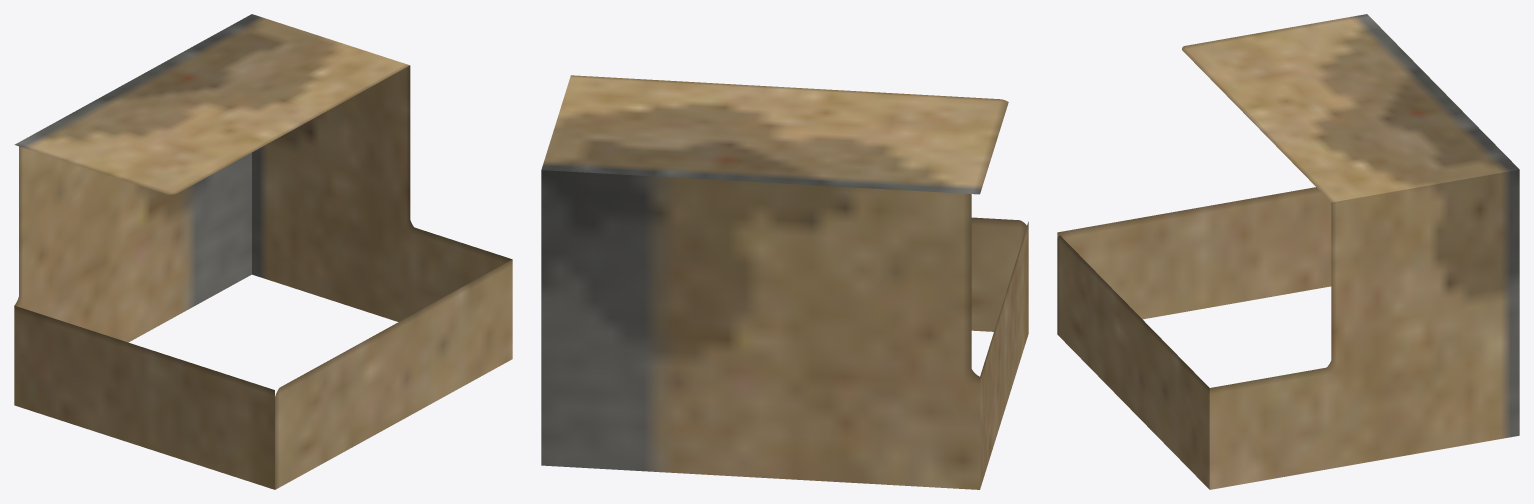
3 views of the same model, side by side, from view 1: azimuth 30°, elevation 25°; view 2: azimuth 150°, elevation 25°; view 3: azimuth 270°, elevation 25° (orthographic). The views are drawn at different scales.
Visible parts, largest first — view 1: cube; view 2: cube; view 3: cube.
Part boxes in pixels (x1,y1,x2,y2): cube: (14, 14, 512, 489); cube: (541, 75, 1028, 489); cube: (1057, 14, 1519, 489).
Size of what is drawn, in the model's own units: 1.48 by 0.875 by 1.38.
